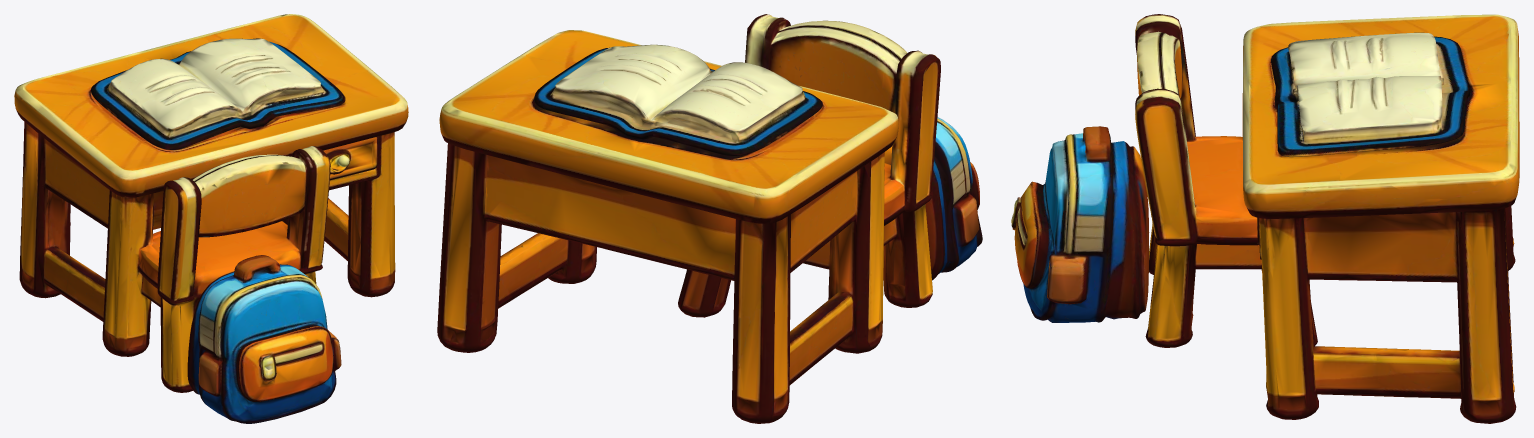
Rendered from desk.glb.
The picture shows the model from 3 angles, left to right: view 1: azimuth 30°, elevation 25°; view 2: azimuth 150°, elevation 25°; view 3: azimuth 270°, elevation 25°; orthographic projection. The views are drawn at different scales.
Parts seen in each view (by area): view 1: node_0; view 2: node_0; view 3: node_0.
Part boxes in pixels (x1,y1,x2,y2): node_0: (14, 14, 408, 423); node_0: (437, 14, 982, 423); node_0: (1011, 14, 1519, 423).
Bounding box in the file's own units: 0.7147 × 0.534 × 0.8874.
1 material, 1 textured.
